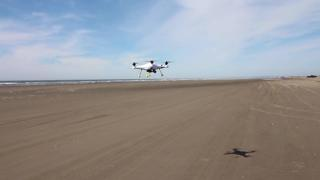UAV: (131, 60, 172, 78)
